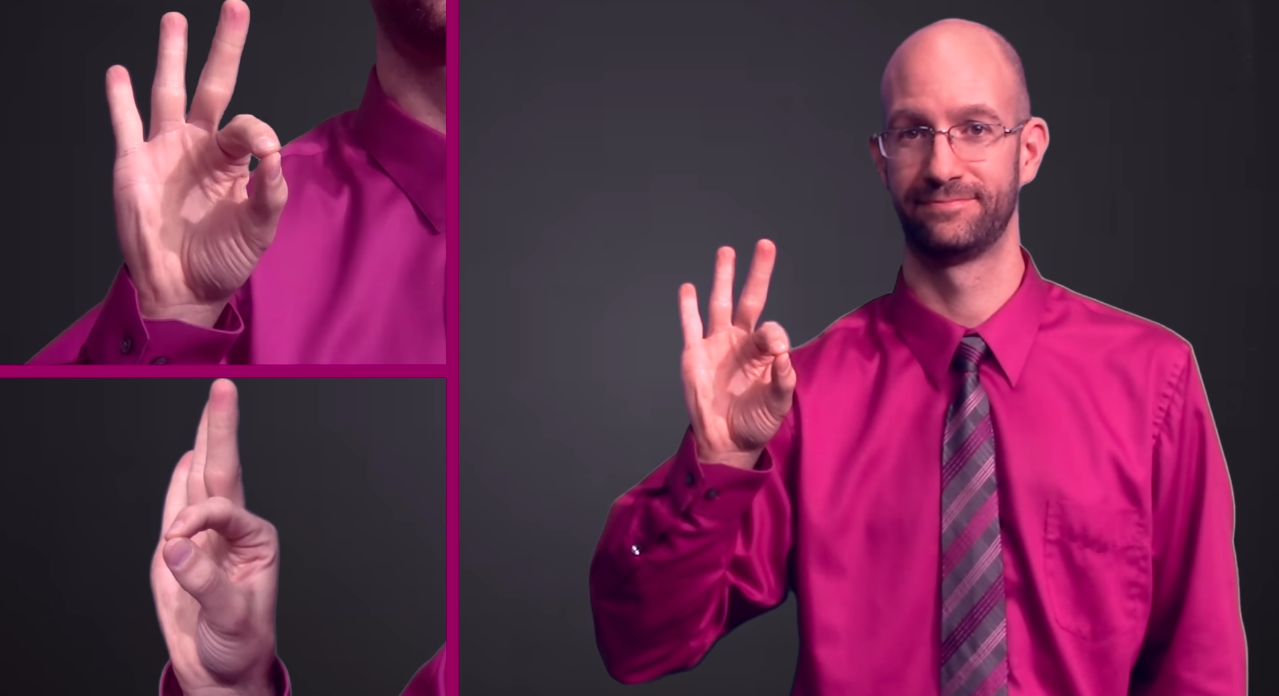f: (78, 1, 301, 327), (122, 378, 311, 696), (662, 228, 808, 466)
